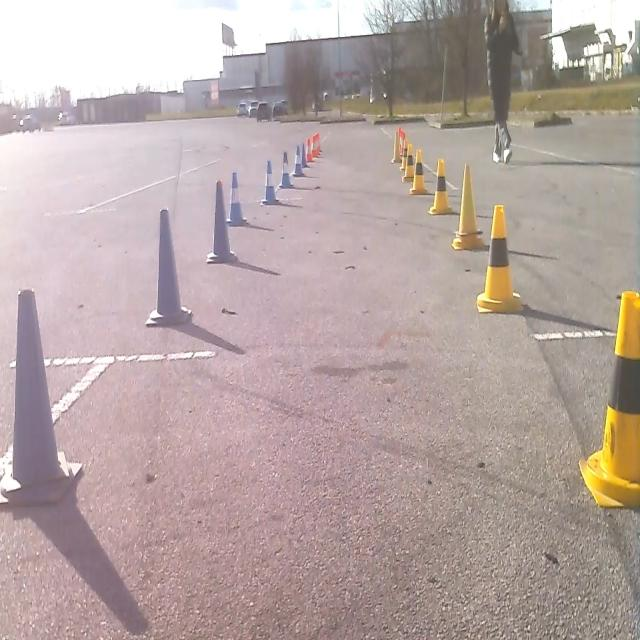blue_cone: (1, 285, 83, 506), (144, 206, 193, 328), (206, 177, 237, 264), (226, 170, 246, 226), (260, 162, 280, 207), (279, 153, 294, 191), (292, 146, 304, 179), (300, 143, 309, 168)
orange_cone: (397, 126, 406, 156), (312, 133, 322, 158), (306, 138, 314, 162)
yellow_cone: (578, 288, 639, 509), (476, 202, 522, 314), (452, 161, 484, 250), (428, 156, 452, 216), (409, 147, 428, 195), (401, 141, 415, 180), (391, 131, 402, 164)
